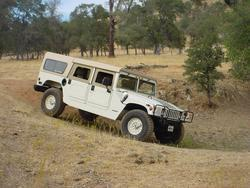car: (16, 49, 205, 140)
